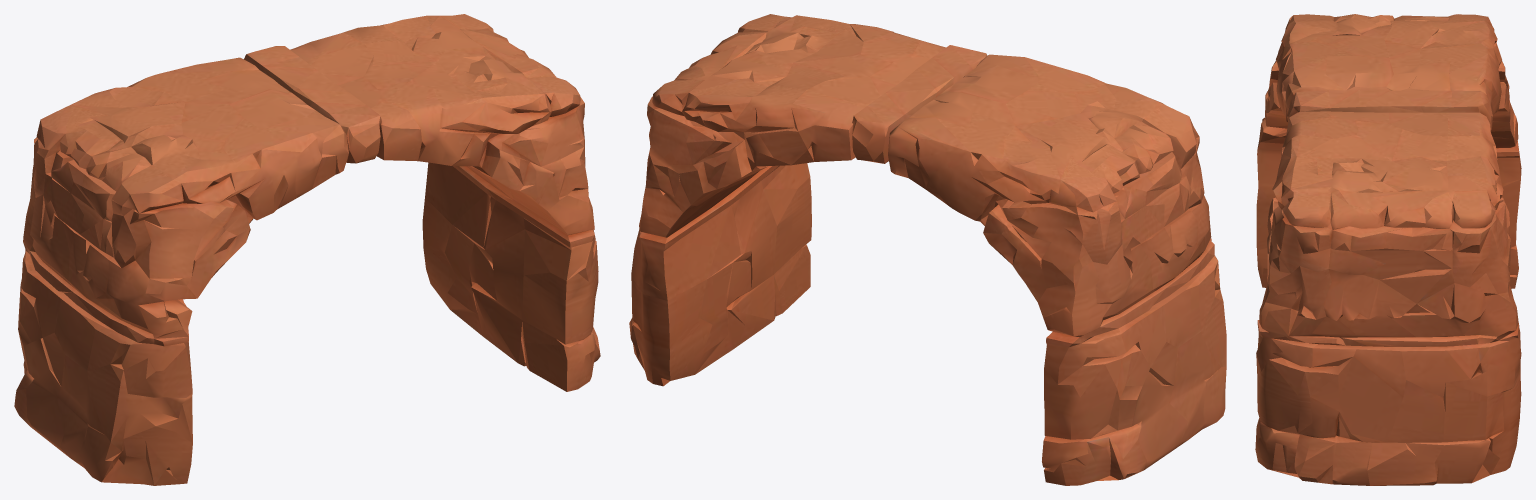
Rendered from red_rock_arch.glb.
3 renders of one model, left to right at view 1: azimuth 30°, elevation 25°; view 2: azimuth 150°, elevation 25°; view 3: azimuth 270°, elevation 25°, orthographic. The views are drawn at different scales.
Size of the model in its own units: 1.9 by 1.1 by 0.9309.
Materials: 1 (1 with a texture image).
